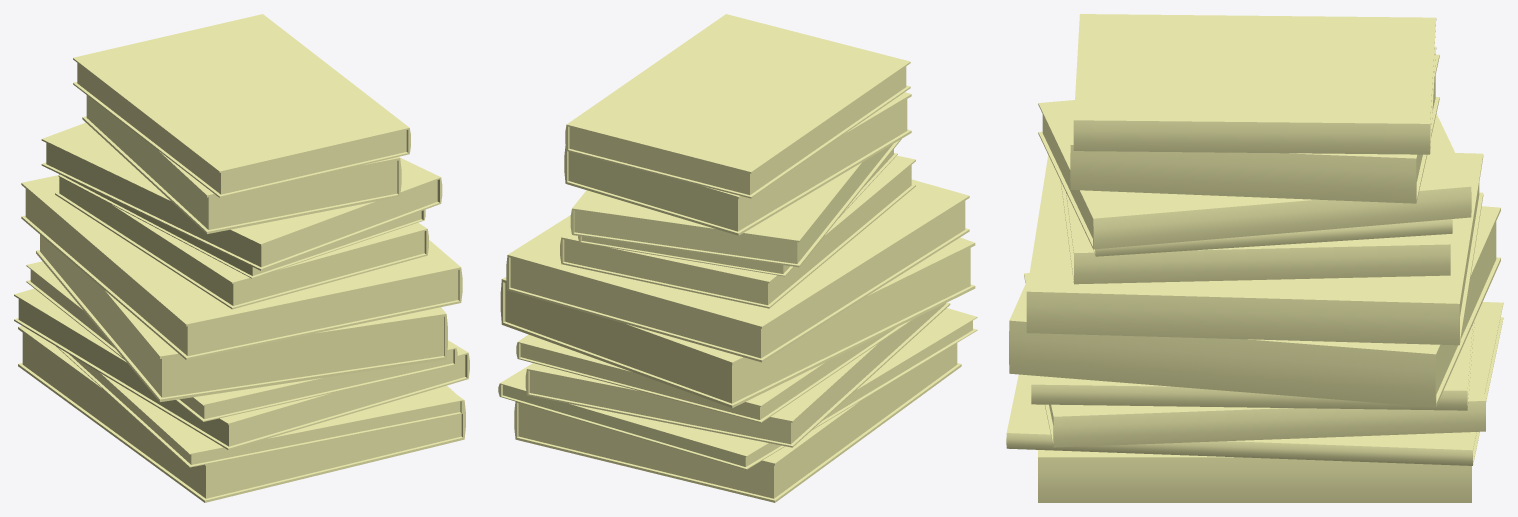
The model's file is MangaKa Props - A_R_Books_13.glb.
3 views of the same model, side by side, from view 1: azimuth 30°, elevation 25°; view 2: azimuth 150°, elevation 25°; view 3: azimuth 270°, elevation 25° (orthographic). The views are drawn at different scales.
Parts seen in each view (by area): view 1: A_R_Books_13_blueScreen; view 2: A_R_Books_13_blueScreen; view 3: A_R_Books_13_blueScreen.
Boxes of the visible parts, x1,y1,x2,y2 form: A_R_Books_13_blueScreen: (14,14,469,502); A_R_Books_13_blueScreen: (498,14,977,502); A_R_Books_13_blueScreen: (1006,14,1503,502).
Bounding box in the file's own units: 0.2606 × 0.2417 × 0.3021.
